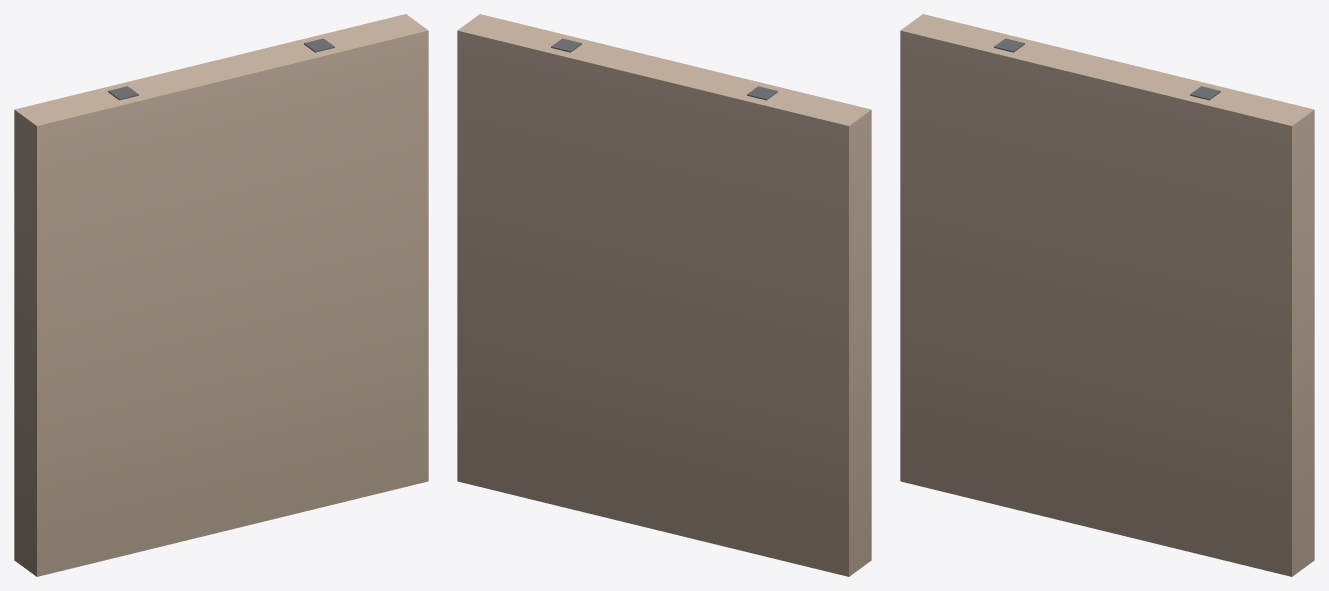
Rendered from wall_regocrete.glb.
3 renders of one model, left to right at view 1: azimuth 30°, elevation 25°; view 2: azimuth 150°, elevation 25°; view 3: azimuth 330°, elevation 25°, orthographic.
Parts seen in each view (by area): view 1: wall_regocrete; view 2: wall_regocrete; view 3: wall_regocrete.
Boxes of the visible parts, x1,y1,x2,y2 form: wall_regocrete: (14, 14, 428, 576); wall_regocrete: (457, 14, 871, 576); wall_regocrete: (900, 14, 1314, 576).
Size of the model in its own units: 2 by 2.21 by 0.2.
